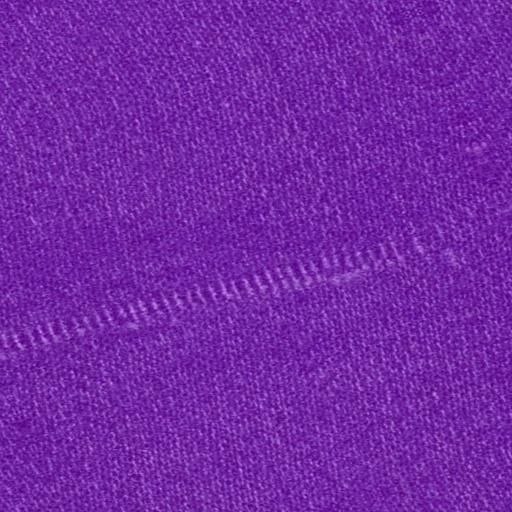slub: (2, 235, 410, 372)
